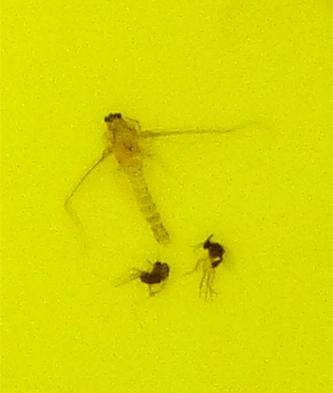Brachycera: (200, 233, 233, 277)
Ephemeroptera: (100, 100, 184, 253)
Nematocera: (135, 260, 174, 293)
